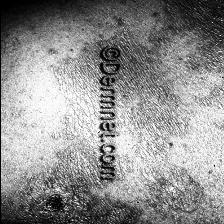Non-Cancerous Skin Condition: (54, 31, 182, 196)
